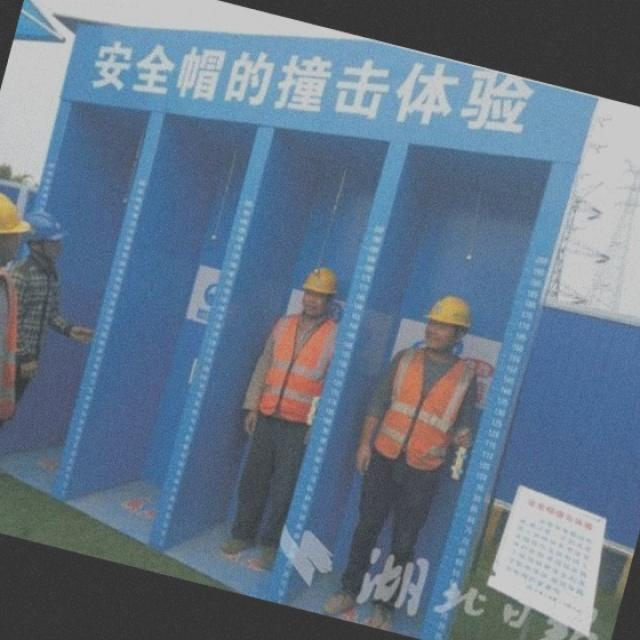helmet: (298, 248, 352, 300), (426, 283, 479, 334), (24, 199, 77, 250), (0, 192, 31, 244)
safety_vest: (372, 342, 476, 472), (254, 304, 357, 434), (0, 264, 36, 428)
